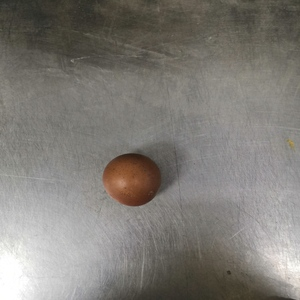brown egg: (102, 153, 162, 207)
